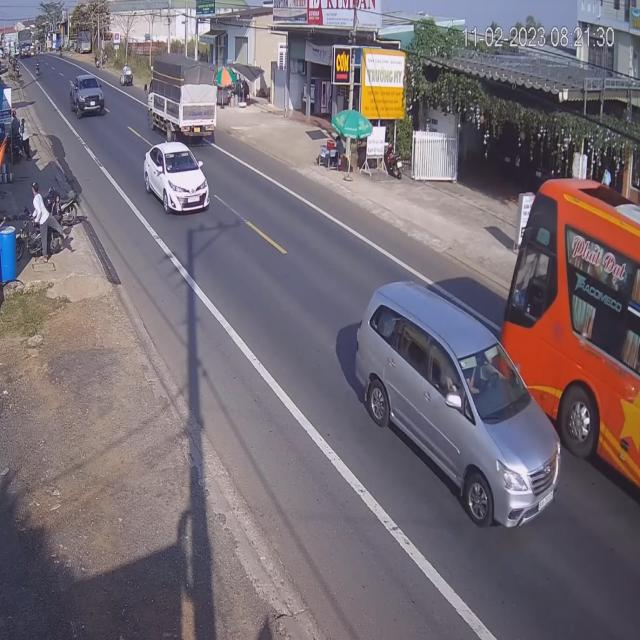bus: (504, 174, 638, 528)
car: (355, 276, 566, 536), (146, 143, 212, 219), (70, 76, 106, 119)
truck: (148, 54, 220, 142)
